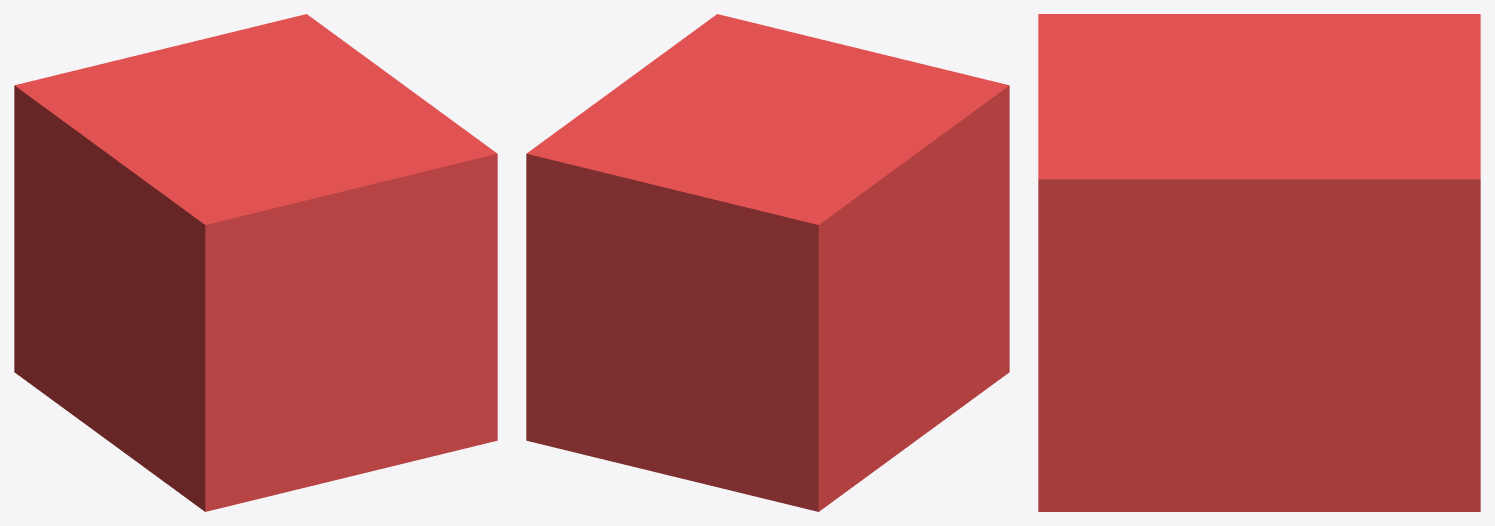
The picture shows the model from 3 angles, left to right: view 1: azimuth 30°, elevation 25°; view 2: azimuth 150°, elevation 25°; view 3: azimuth 270°, elevation 25°; orthographic projection. The views are drawn at different scales.
Visible parts, largest first — view 1: SketchUp; view 2: SketchUp; view 3: SketchUp.
Boxes of the visible parts, x1,y1,x2,y2 form: SketchUp: (14,14,497,511); SketchUp: (526,14,1009,511); SketchUp: (1038,14,1480,511).
Size of the model in its own units: 57.09 by 64.57 by 53.54.
